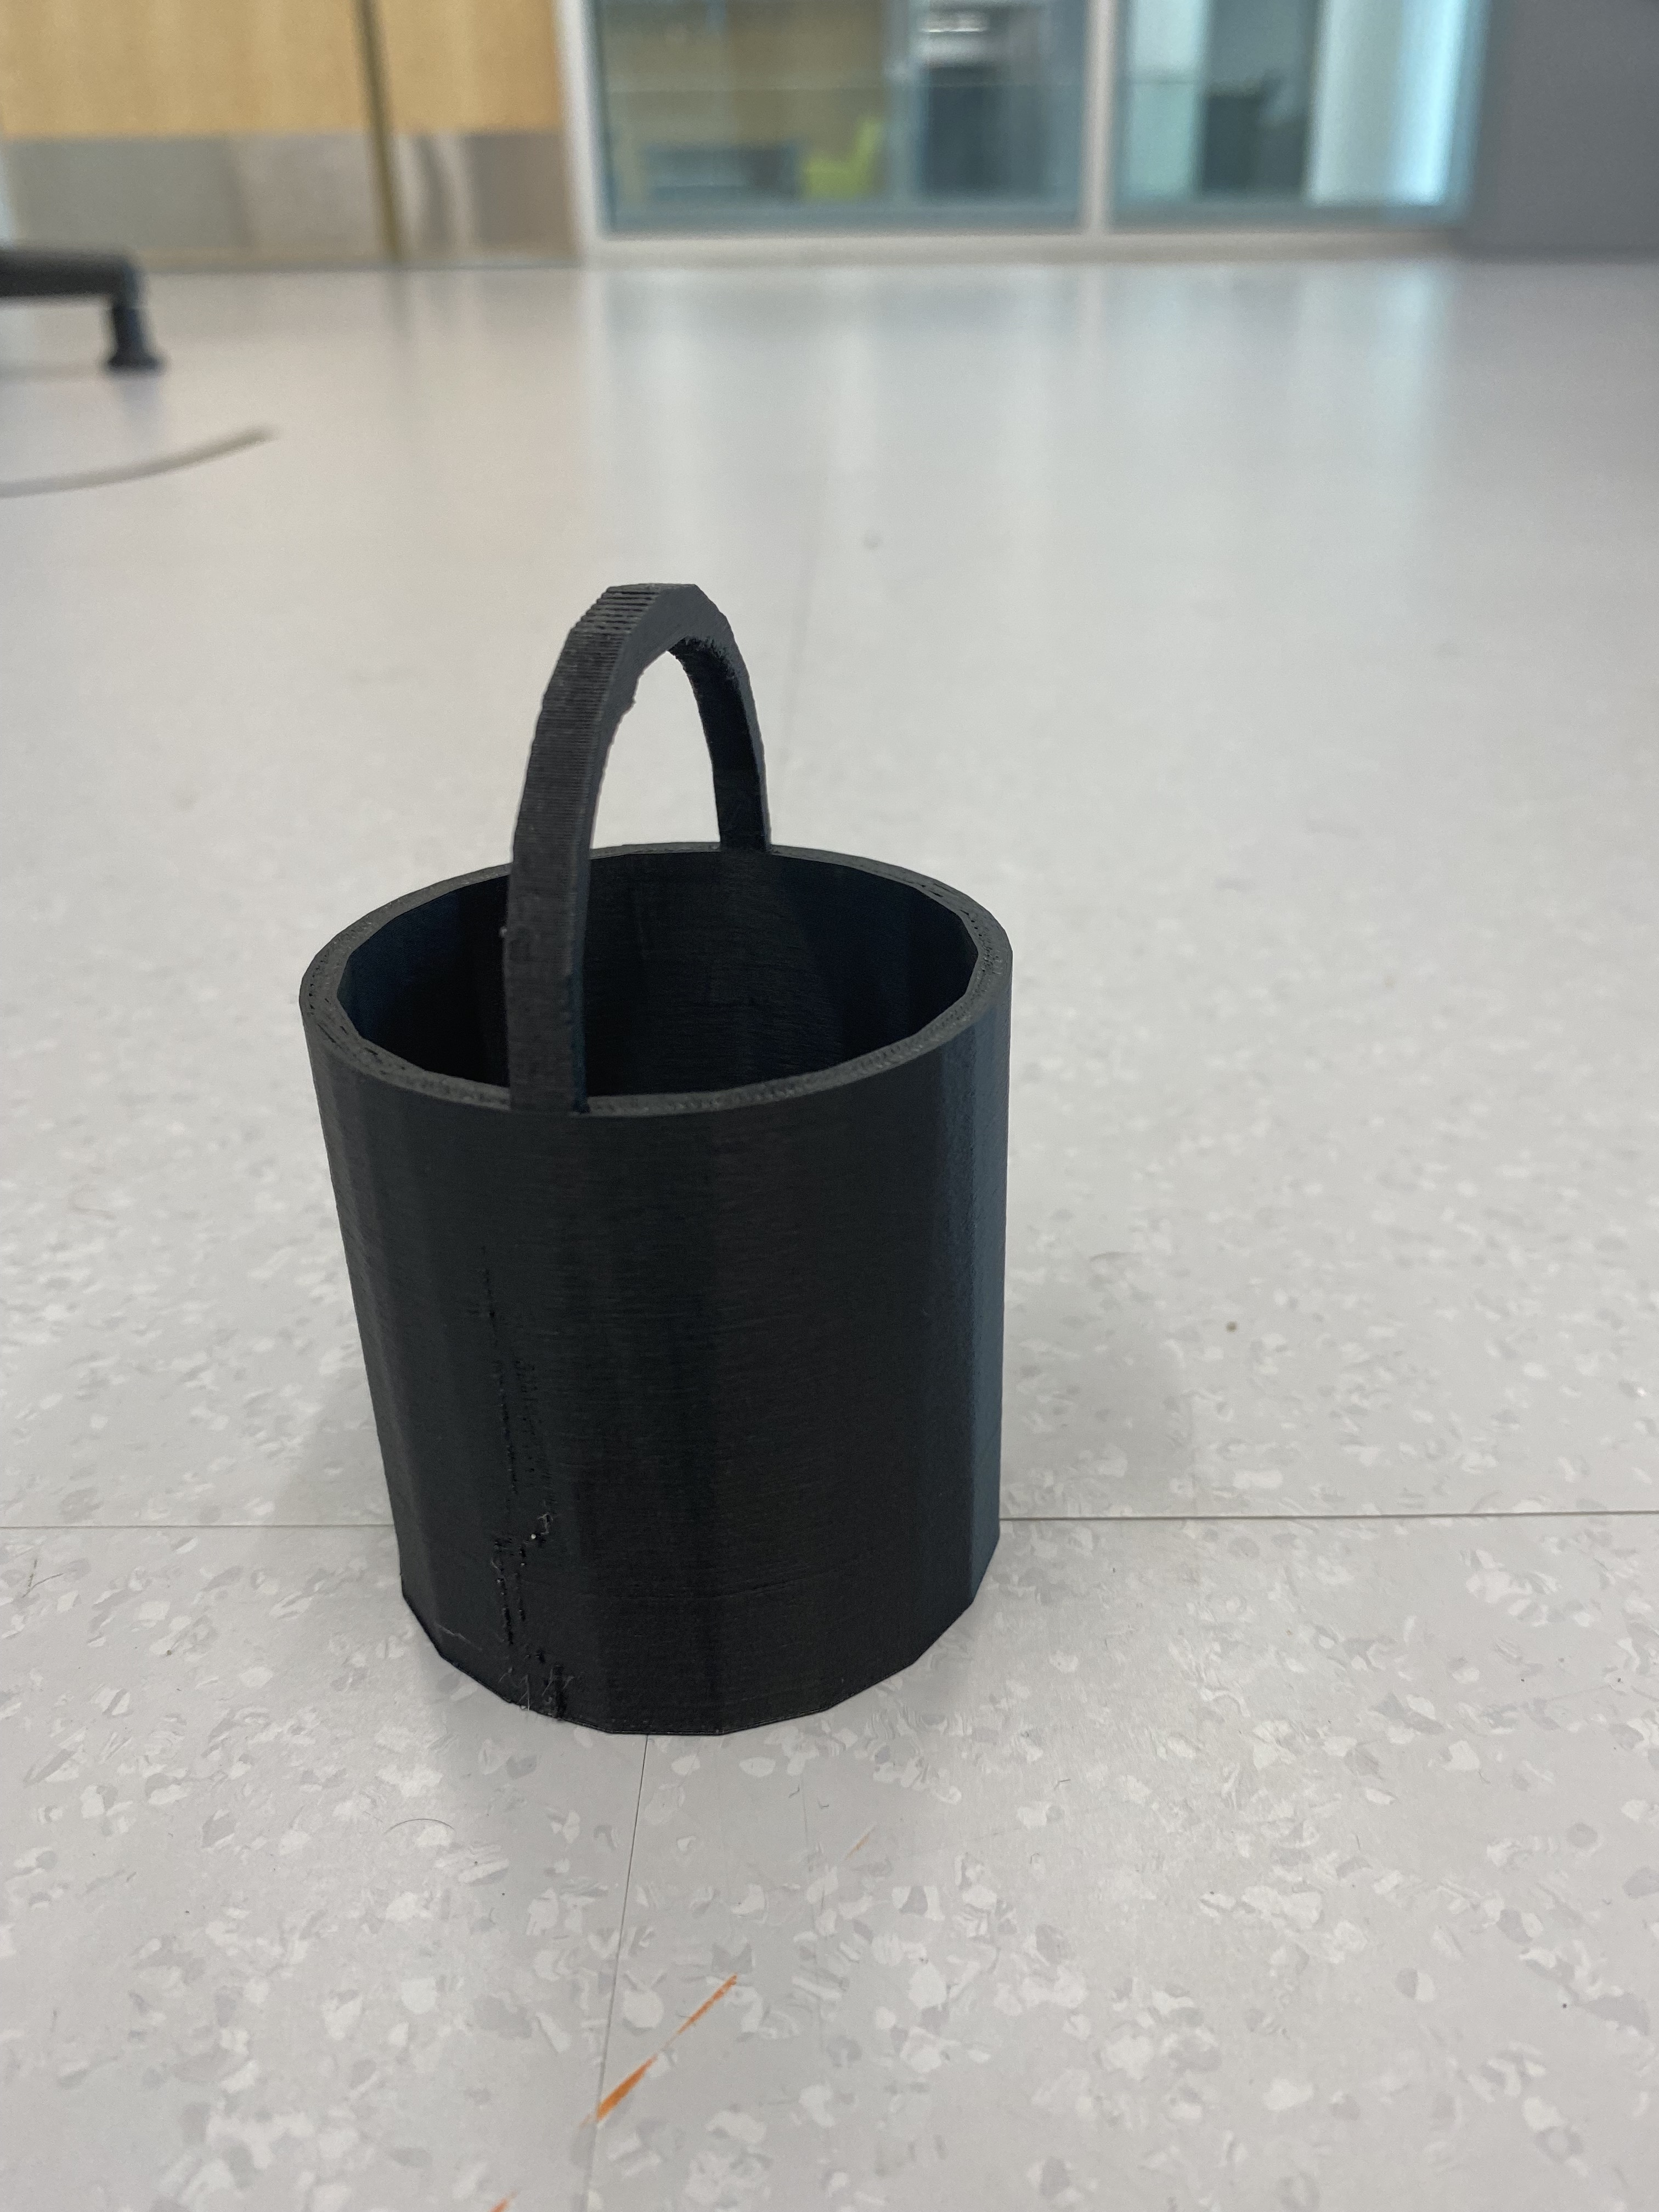bag: (284, 571, 1018, 1740)
